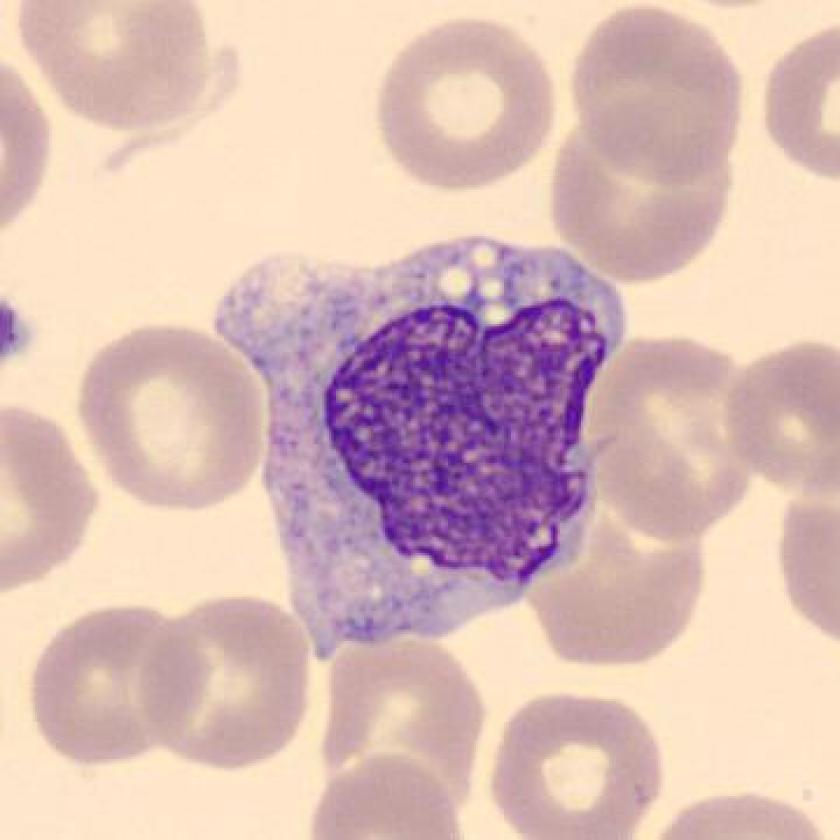monocyte: (195, 207, 643, 677)
